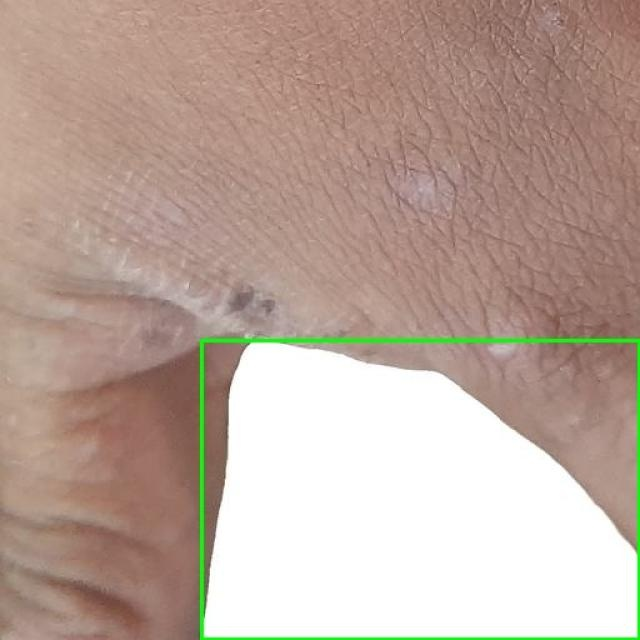Scabies: (201, 340, 639, 639)
